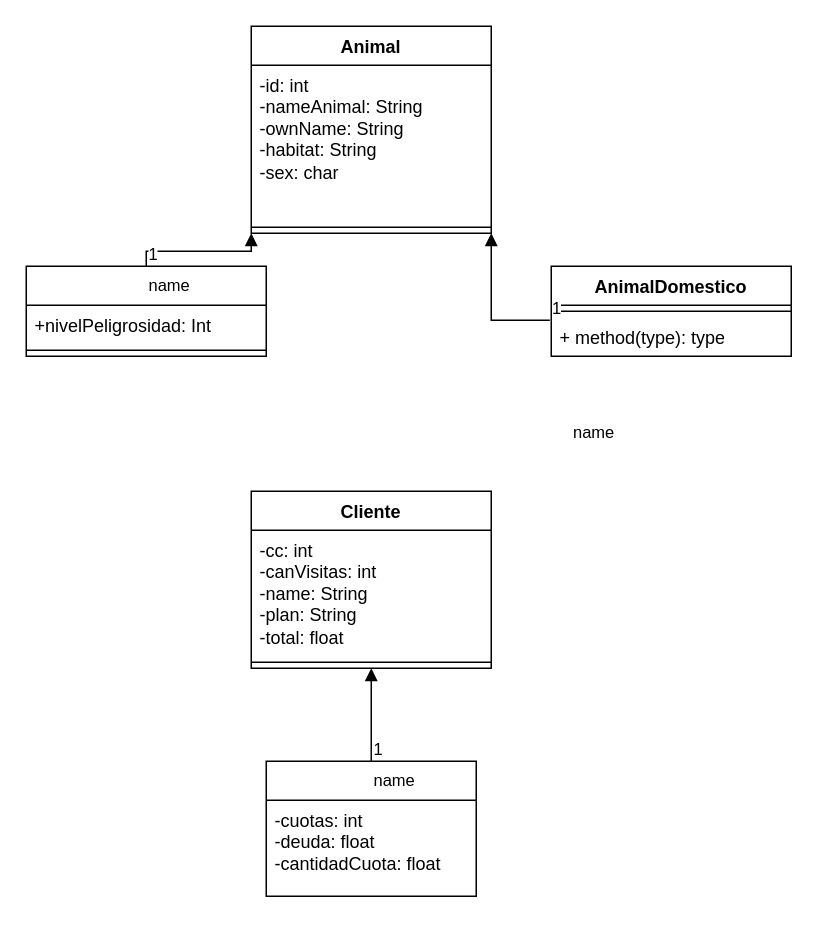
The diagram is 818 pixels wide and 927 high, and some of its shapes have lost their labels. Here are the shapes that lost their labels. From the top down, the box of each, then its label:
(25, 265, 266, 356): AnimalSalvaje
(265, 760, 476, 896): ClienteDeudor
